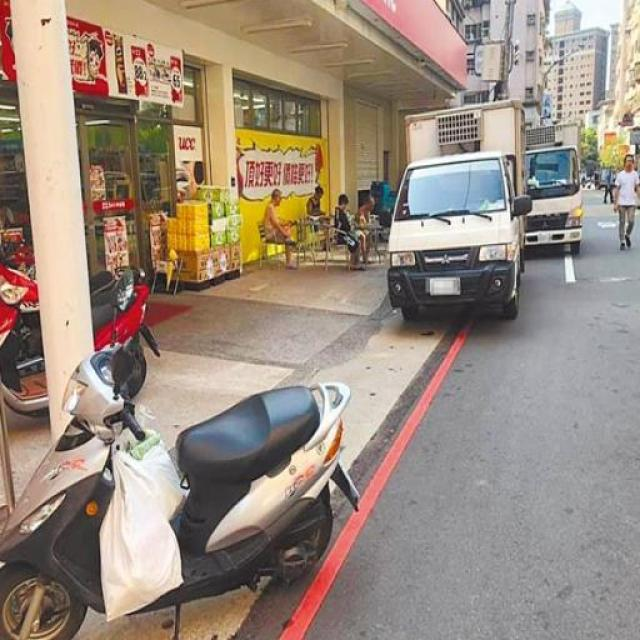Legalparking: (0, 340, 359, 639)
illegalparking: (389, 100, 581, 319)
